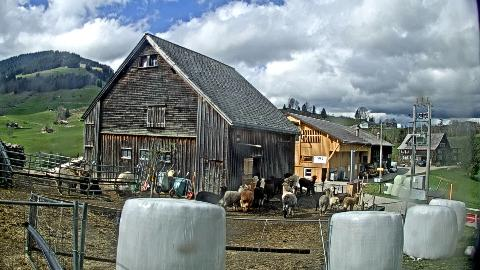car: (388, 166, 398, 172), (418, 162, 426, 166)
sheep: (54, 169, 84, 195), (222, 184, 248, 212), (196, 186, 228, 204), (308, 184, 330, 210), (66, 170, 92, 192), (283, 186, 299, 218), (330, 186, 352, 208), (282, 182, 296, 212), (242, 182, 256, 212), (243, 176, 259, 201), (252, 178, 266, 206), (299, 176, 318, 196), (114, 172, 134, 190), (319, 188, 331, 216), (258, 178, 274, 199), (344, 192, 360, 212), (269, 175, 285, 195), (328, 188, 340, 210), (282, 174, 300, 188), (112, 184, 132, 196), (284, 178, 292, 198)
